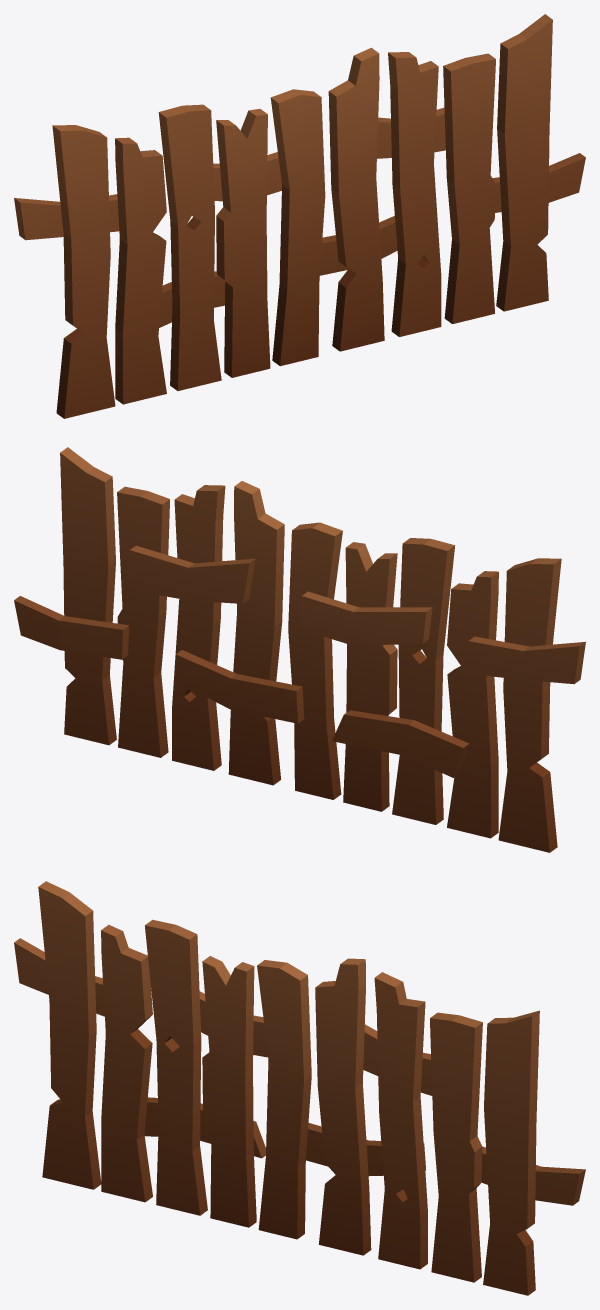
Rendered from Fence.glb.
3 renders of one model, top to bottom at view 1: azimuth 30°, elevation 25°; view 2: azimuth 150°, elevation 25°; view 3: azimuth 330°, elevation 25°, orthographic.
Parts seen in each view (by area): view 1: Fence.001, Fence, Fence.003; view 2: Fence.001, Fence, Fence.003; view 3: Fence.001, Fence, Fence.003.
Part boxes in pixels (x1,y1,x2,y2): Fence.001: (14,104,225,418); Fence: (377,14,585,336); Fence.003: (213,47,397,377); Fence.001: (332,538,585,852); Fence: (14,447,255,770); Fence.003: (174,481,432,811); Fence.001: (14,881,265,1215); Fence: (363,972,585,1295); Fence.003: (199,956,425,1255).
Size of the model in its own units: 5.05 by 2.47 by 0.218.
1 material, 1 textured.
